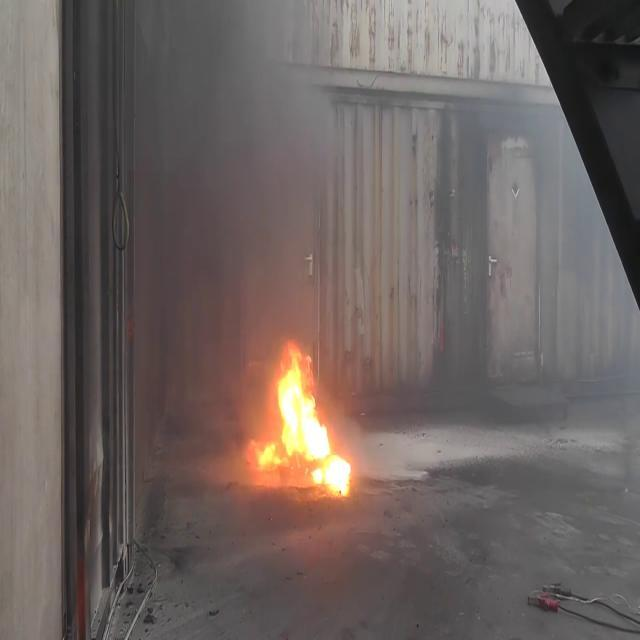Fire: (262, 334, 354, 490)
Smoke: (134, 1, 334, 472)
